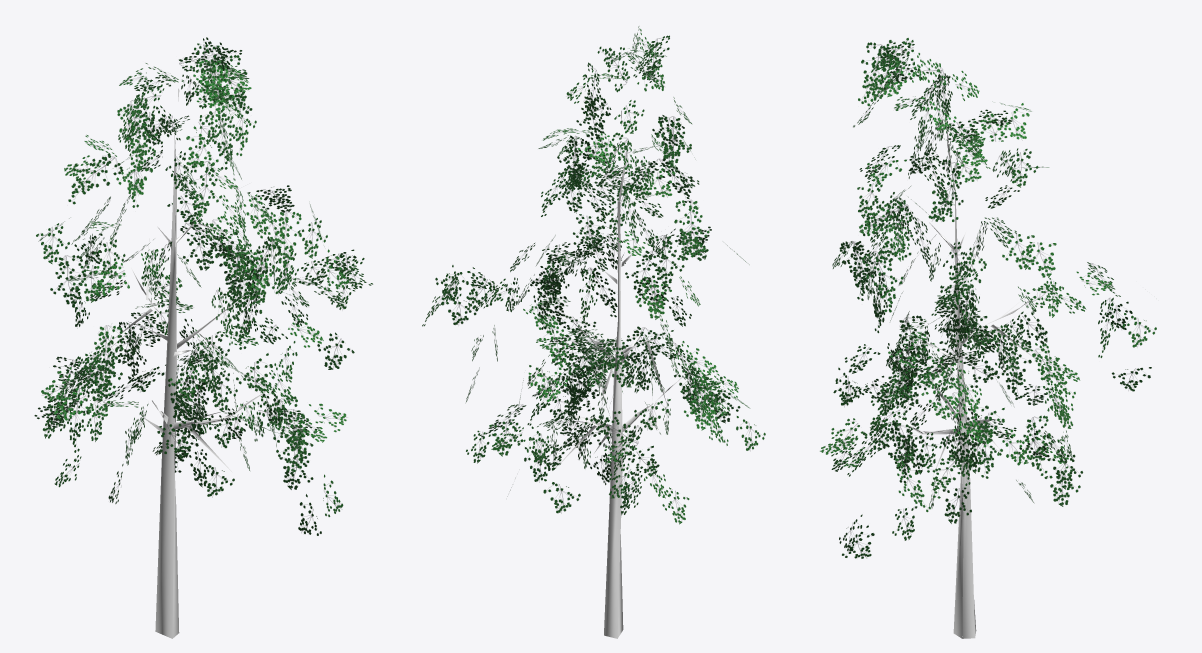
File: bouleau_feuilles1_l1.glb
The picture shows the model from 3 angles, left to right: view 1: azimuth 30°, elevation 25°; view 2: azimuth 150°, elevation 25°; view 3: azimuth 270°, elevation 25°; orthographic projection. The views are drawn at different scales.
Visible parts, largest first — view 1: birch-1; view 2: birch-1; view 3: birch-1.
Boxes of the visible parts, left/top/right/bottom form: birch-1: left=34, top=37, right=372, bottom=638; birch-1: left=422, top=26, right=765, bottom=638; birch-1: left=820, top=38, right=1156, bottom=638.
Bounding box in the file's own units: 60.98 × 102 × 57.45.
2 materials, 1 textured.
